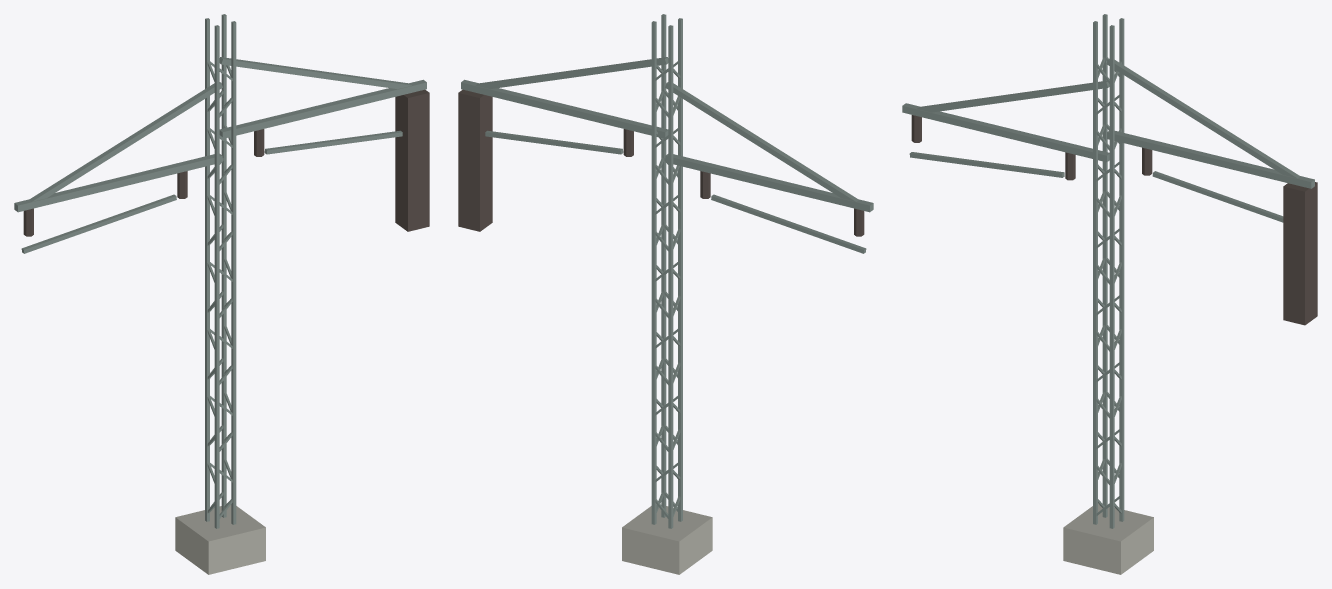
File: SM_poste_catenaria_v3_LOD0.fbx
3 renders of one model, left to right at view 1: azimuth 30°, elevation 25°; view 2: azimuth 150°, elevation 25°; view 3: azimuth 330°, elevation 25°, orthographic.
Visible parts, largest first — view 1: SM_bloques.poste_catenaria_v3_LOD0; view 2: SM_bloques.poste_catenaria_v3_LOD0; view 3: SM_bloques.poste_catenaria_v3_LOD0.
Boxes of the visible parts, x1,y1,x2,y2 form: SM_bloques.poste_catenaria_v3_LOD0: (14,14,429,574); SM_bloques.poste_catenaria_v3_LOD0: (458,14,873,574); SM_bloques.poste_catenaria_v3_LOD0: (902,14,1317,574).
Size of the model in its own units: 6.4 by 8 by 0.9.
